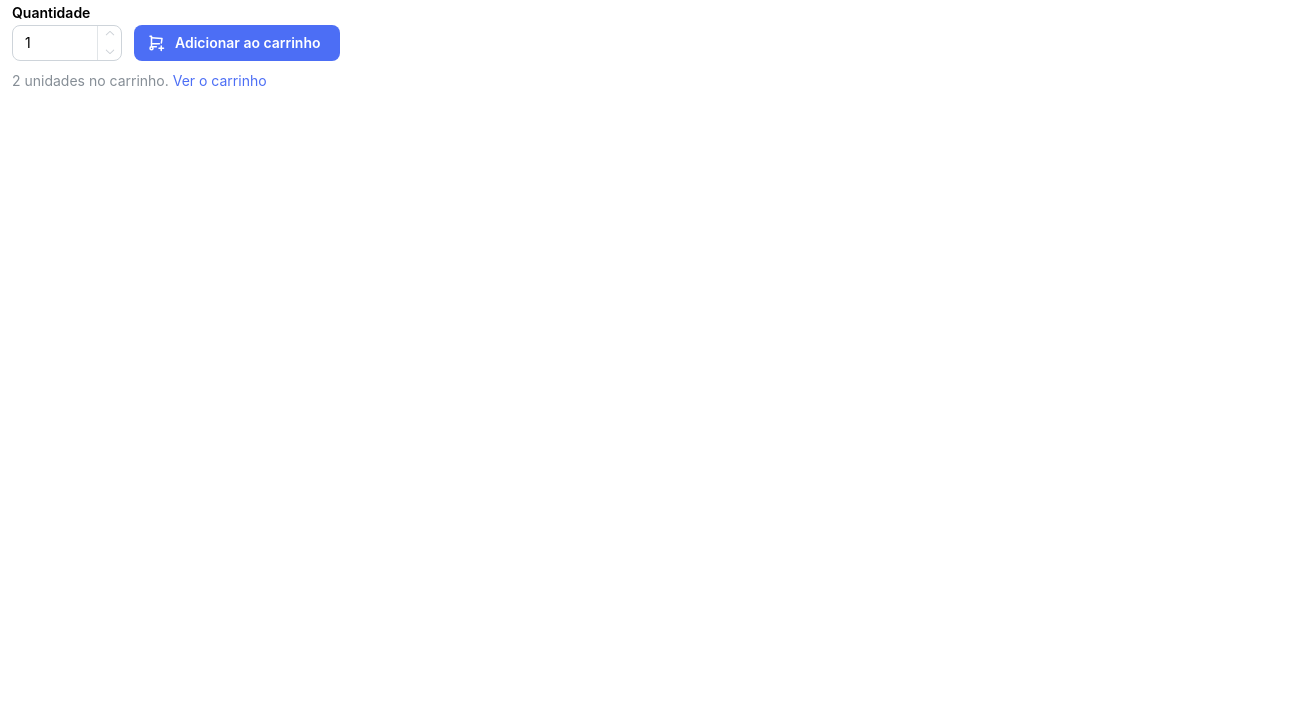
AddToCartForm › não passa do estoque, descontado o que já está no carrinho
The image size is (1292, 720).
Expected: the text "2 unidades no carrinho. Ver o carrinho" is shown, [12,72,267,89]
# Só resta uma unidade: o campo recusa um número maior.
Replace the text in the field labelled "Quantidade" with "5" at (67, 43), box [12,25,122,61]
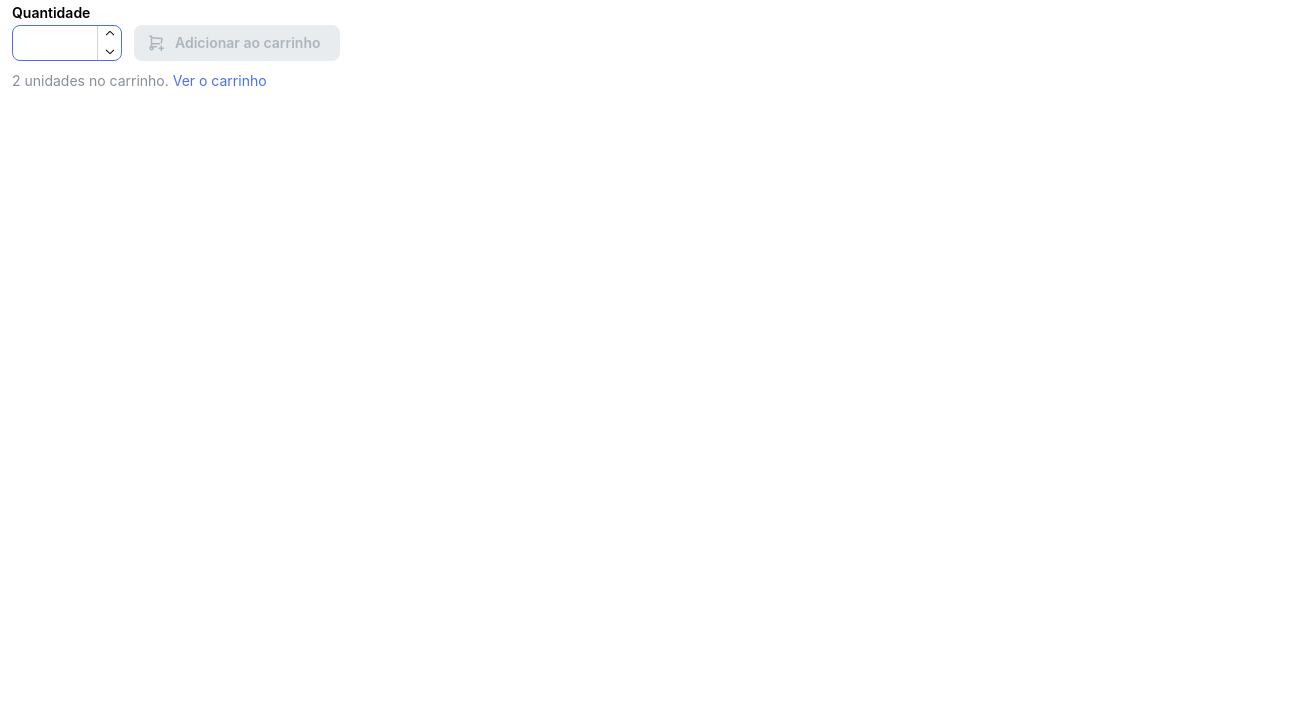
Expected: the button "Adicionar ao carrinho" is disabled, [134,25,340,61]
Type "1" into the field labelled "Quantidade" at (67, 43), box [12,25,122,61]
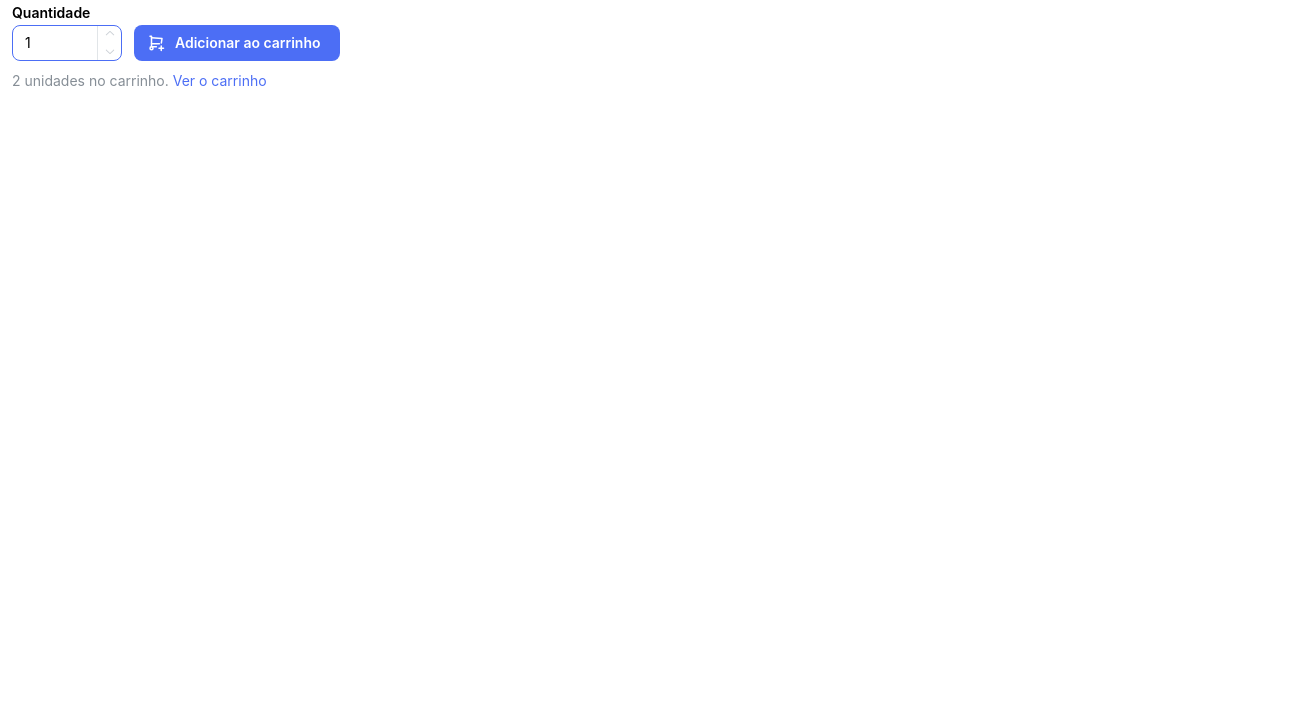
Click the button "Adicionar ao carrinho" at (237, 43), box [134,25,340,61]
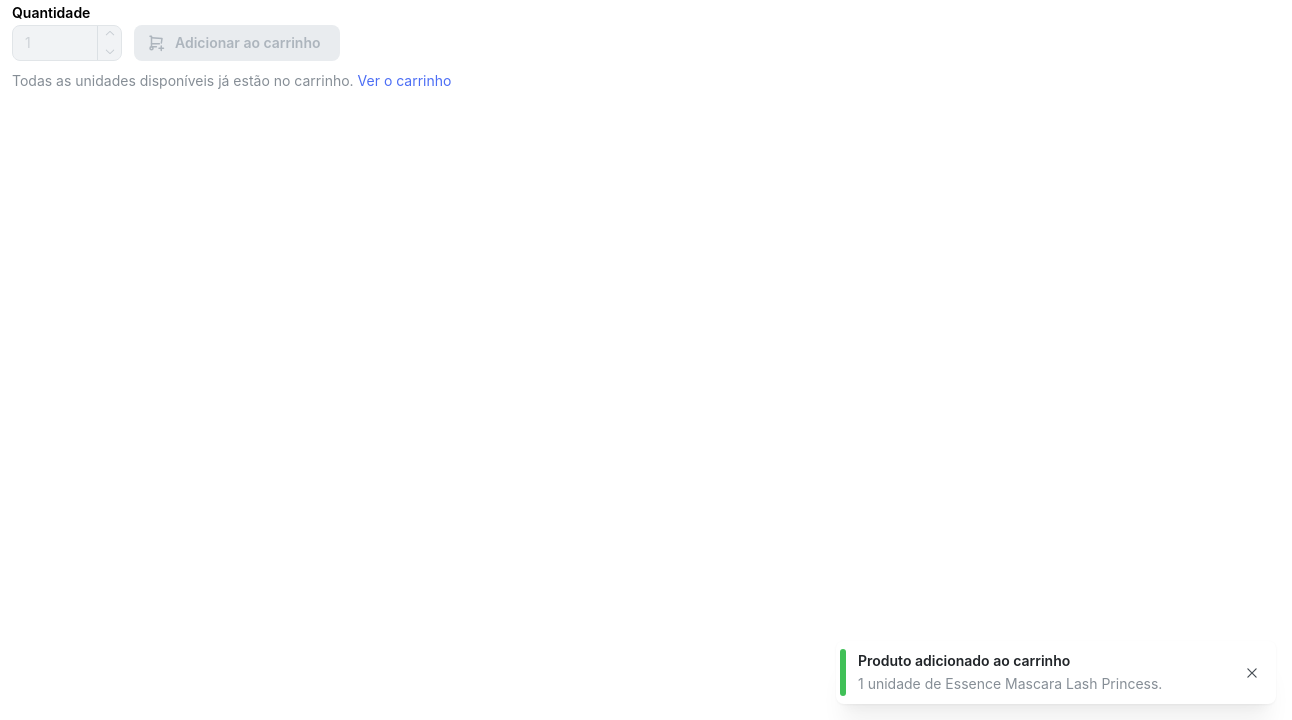
Expected: the text "Todas as unidades disponíveis já estão no carrinho." is shown, [12,72,358,89]
Expected: the field labelled "Quantidade" is disabled, [12,25,122,61]
Expected: the button "Adicionar ao carrinho" is disabled, [134,25,340,61]
